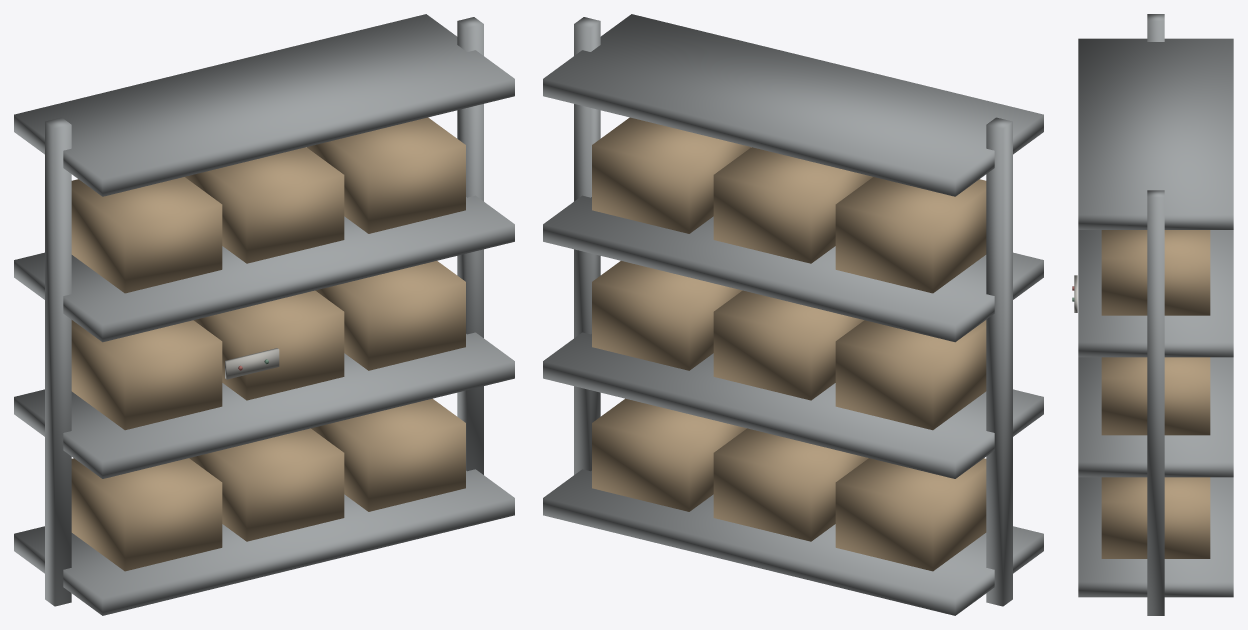
Rendered from warehouse_pallet_rack__compact.glb.
The picture shows the model from 3 angles, left to right: view 1: azimuth 30°, elevation 25°; view 2: azimuth 150°, elevation 25°; view 3: azimuth 270°, elevation 25°; orthographic projection. The views are drawn at different scales.
Parts seen in each view (by area): view 1: world; view 2: world; view 3: world.
Part boxes in pixels (x1,y1,x2,y2): world: [14, 14, 514, 615]; world: [543, 14, 1043, 615]; world: [1072, 14, 1233, 615].
Size of the model in its own units: 1.92 by 2.05 by 0.7147.
